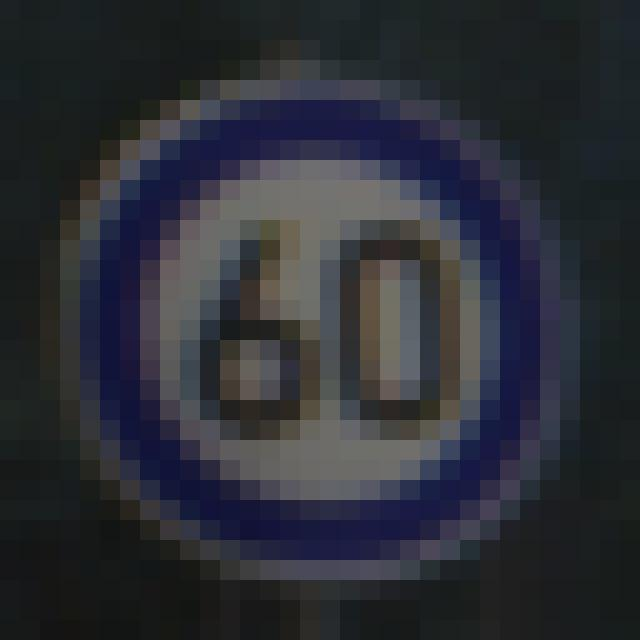SPEED-LIMIT-60: (50, 56, 600, 580)
